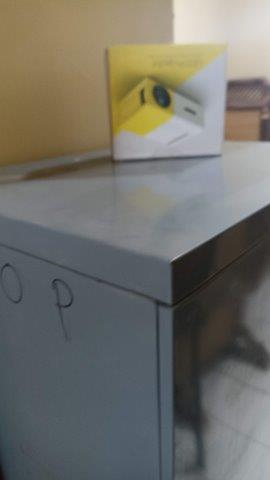kardus: (107, 44, 224, 162)
